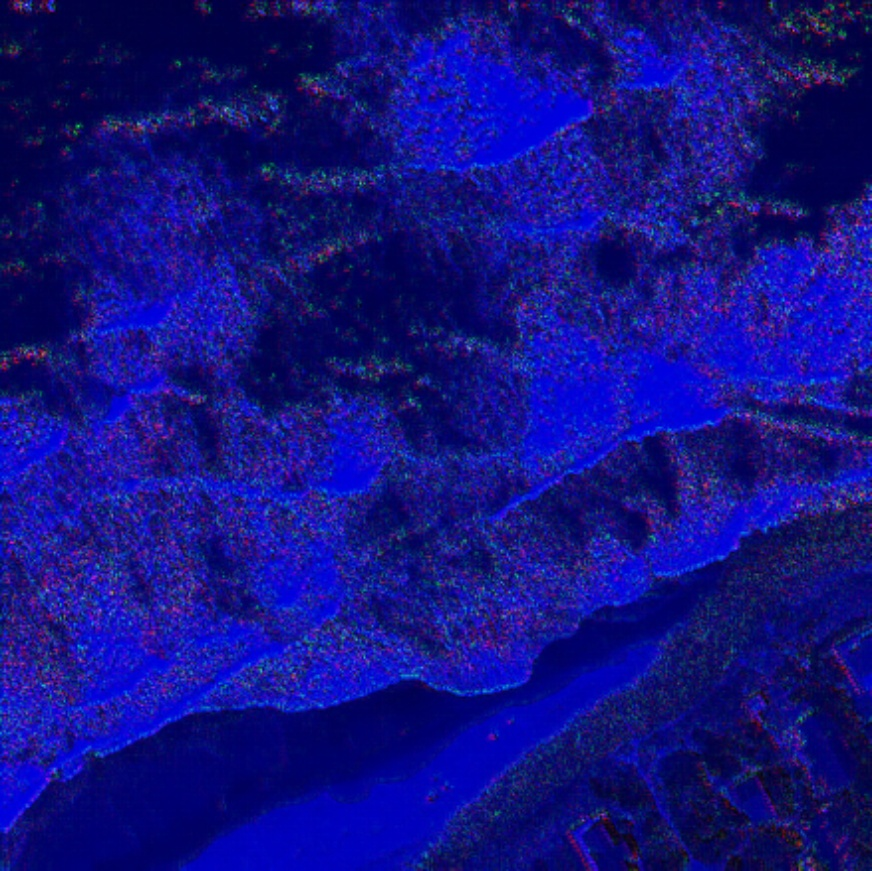rip_current: (171, 78, 569, 604)
